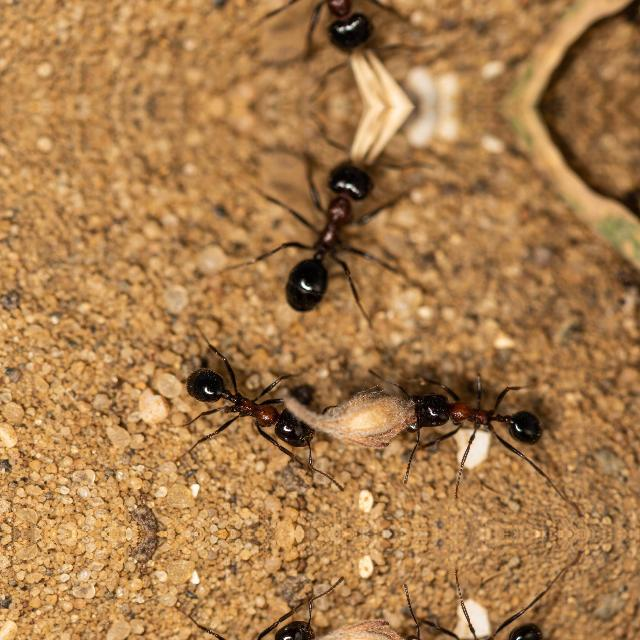Messor: (257, 150, 389, 328), (384, 362, 566, 466), (167, 348, 333, 446), (257, 0, 389, 61), (384, 600, 565, 640), (167, 620, 333, 640)
